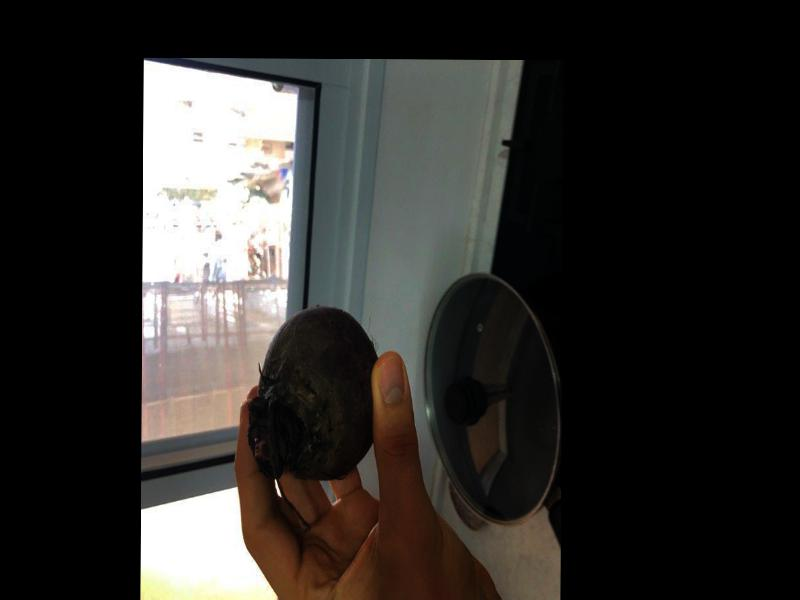Beet: (246, 305, 379, 531)
